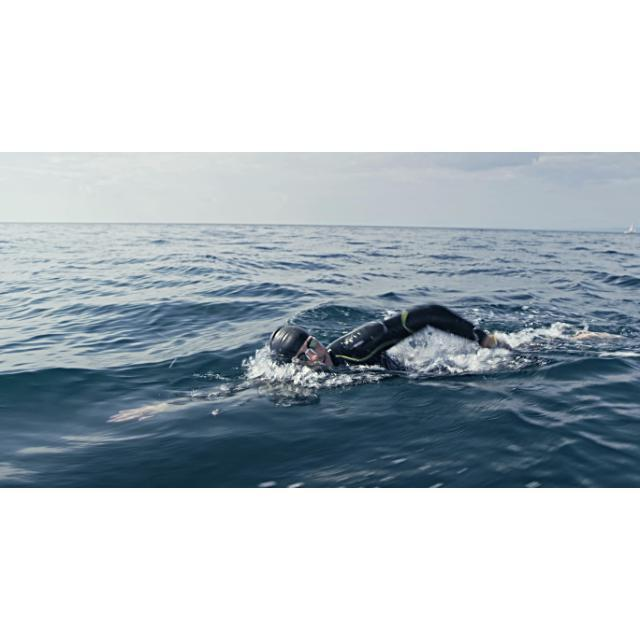human: (269, 306, 505, 383)
